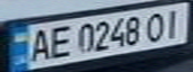0: (75, 19, 96, 54)
2: (93, 17, 112, 52)
4: (109, 15, 130, 48)
8: (124, 12, 145, 46)
A: (21, 26, 54, 63)
E: (45, 22, 75, 60)
I: (160, 6, 190, 38)
O: (142, 9, 169, 43)
